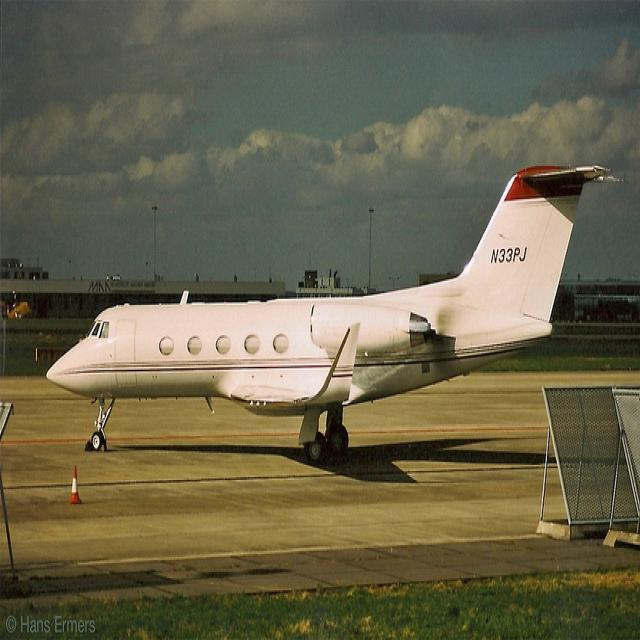airplane: (45, 162, 613, 466)
